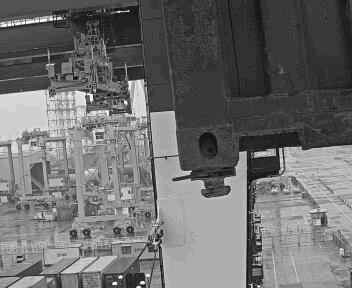twist_lock_1: (179, 162, 238, 205)
